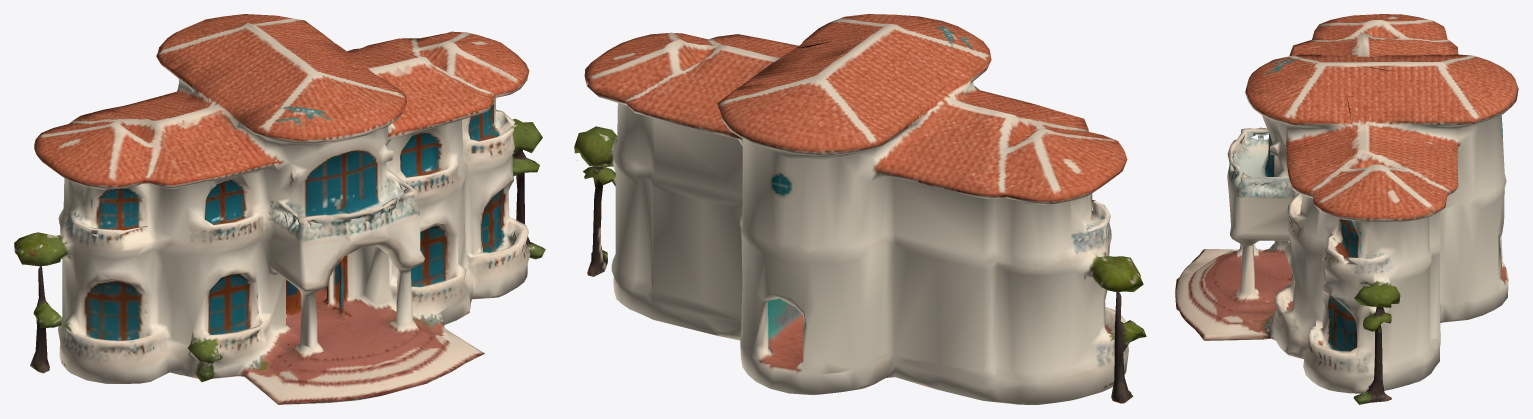
File: villa.fbx
The picture shows the model from 3 angles, left to right: view 1: azimuth 30°, elevation 25°; view 2: azimuth 150°, elevation 25°; view 3: azimuth 270°, elevation 25°; orthographic projection. The views are drawn at different scales.
Parts seen in each view (by area): view 1: Major_villa; view 2: Major_villa; view 3: Major_villa.
Boxes of the visible parts, x1,y1,x2,y2 form: Major_villa: [14, 14, 545, 404]; Major_villa: [574, 14, 1146, 404]; Major_villa: [1175, 14, 1518, 404].
Size of the model in its own units: 5.42 by 2.62 by 3.47.
Materials: 1 (1 with a texture image).
